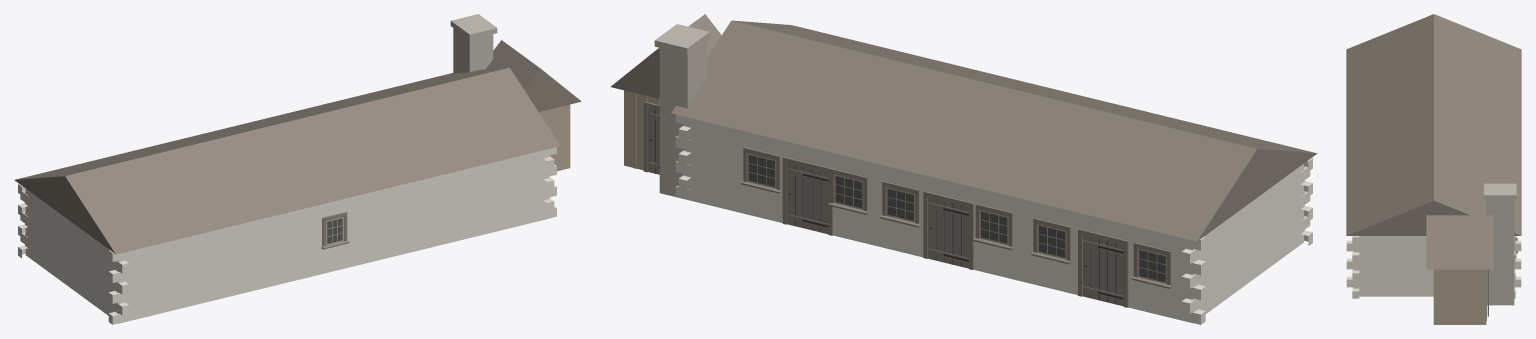
The model's file is lees_place_cabin_1812__lees_place_1812.glb.
3 renders of one model, left to right at view 1: azimuth 30°, elevation 25°; view 2: azimuth 150°, elevation 25°; view 3: azimuth 270°, elevation 25°, orthographic. The views are drawn at different scales.
Parts seen in each view (by area): view 1: lees_place_cabin_1812__lees_place_1812; view 2: lees_place_cabin_1812__lees_place_1812; view 3: lees_place_cabin_1812__lees_place_1812.
Boxes of the visible parts, x1,y1,x2,y2 form: lees_place_cabin_1812__lees_place_1812: [14, 14, 581, 324]; lees_place_cabin_1812__lees_place_1812: [610, 14, 1317, 324]; lees_place_cabin_1812__lees_place_1812: [1346, 14, 1521, 324].
Bounding box in the file's own units: 17.4 × 4.2 × 6.
